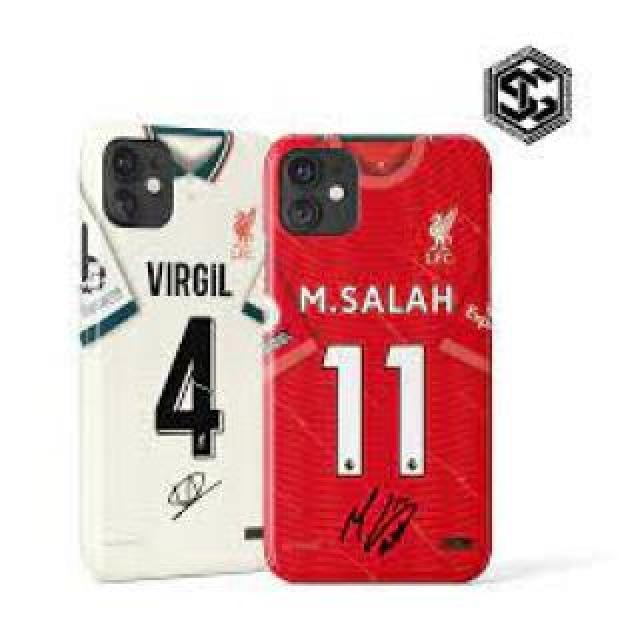smart phone: (268, 96, 520, 572), (68, 110, 252, 577)
